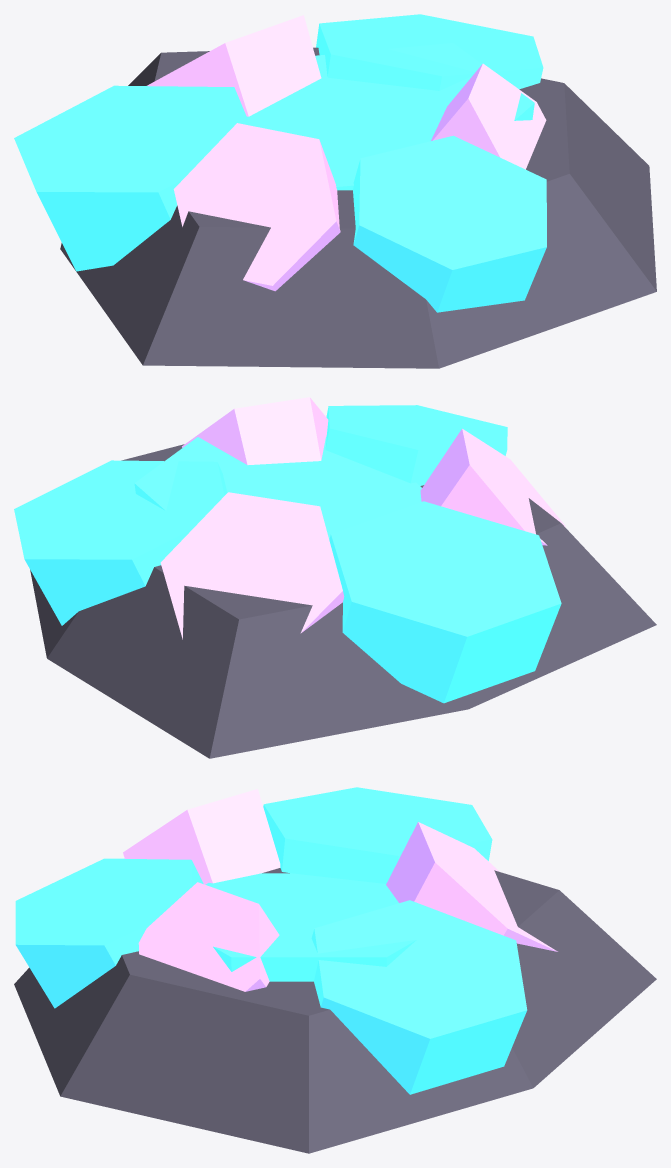
The model's file is bare_rock.glb.
3 renders of one model, top to bottom at view 1: azimuth 30°, elevation 25°; view 2: azimuth 150°, elevation 25°; view 3: azimuth 270°, elevation 25°, orthographic. The views are drawn at different scales.
Parts seen in each view (by area): view 1: Rock, Crystal.270, Crystal.160, Crystal.215, Crystal.0, Crystal.35, Crystal.100, Crystal.320; view 2: Rock, Crystal.160, Crystal.35, Crystal.100, Crystal.0, Crystal.270, Crystal.215, Crystal.320; view 3: Rock, Crystal.35, Crystal.270, Crystal.160, Crystal.0, Crystal.320, Crystal.100, Crystal.215.
Part boxes in pixels (x1,y1,x2,y2): Rock: (60,47,656,368); Crystal.270: (353,135,546,312); Crystal.160: (14,85,250,271); Crystal.215: (173,123,340,291); Crystal.0: (247,43,534,190); Crystal.35: (316,14,543,90); Crystal.100: (147,15,321,116); Crystal.320: (431,63,546,169); Rock: (30,444,656,758); Crystal.160: (329,501,561,703); Crystal.35: (14,460,227,625); Crystal.100: (160,492,344,639); Crystal.0: (134,436,421,539); Crystal.270: (325,405,507,485); Crystal.215: (420,428,565,545); Crystal.320: (182,397,328,465); Rock: (14,868,656,1153); Crystal.35: (311,900,527,1094); Crystal.270: (15,858,203,1008); Crystal.160: (263,787,492,883); Crystal.0: (205,873,416,981); Crystal.320: (138,882,279,991); Crystal.100: (386,822,557,951); Crystal.215: (123,789,280,884).
Bounding box in the file's own units: 1.66 × 0.4604 × 1.66.
